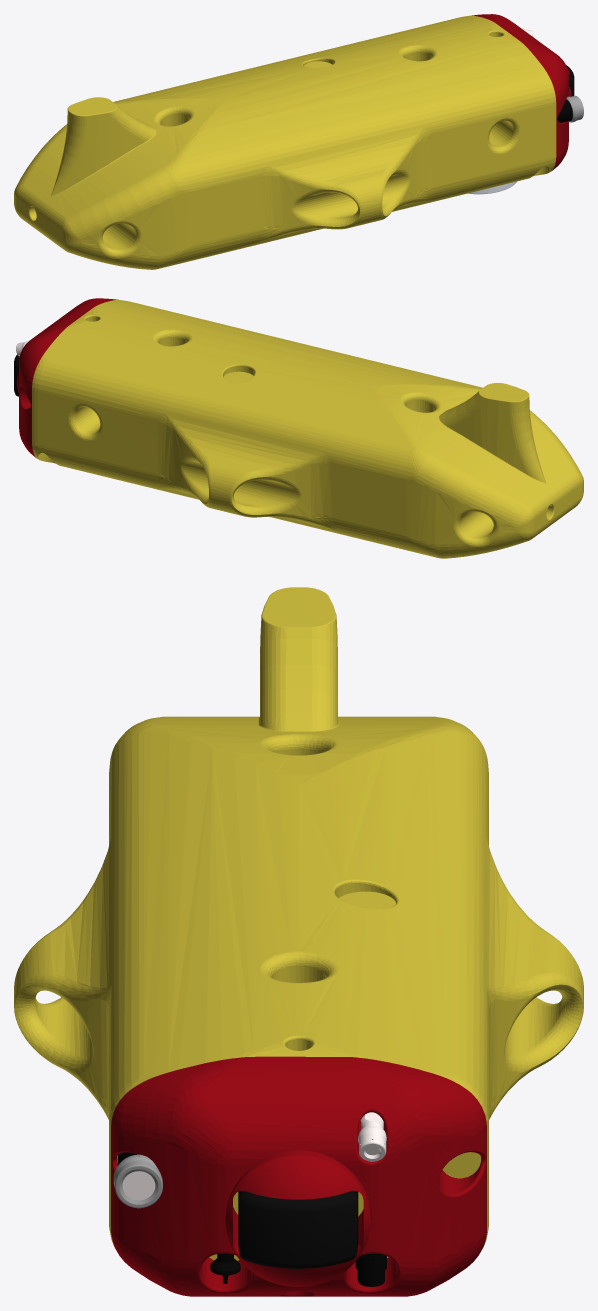
Rendered from FlatFish Mesh.fbx.
3 renders of one model, top to bottom at view 1: azimuth 30°, elevation 25°; view 2: azimuth 150°, elevation 25°; view 3: azimuth 270°, elevation 25°, orthographic. The views are drawn at different scales.
Visible parts, largest first — view 1: External Hull; view 2: External Hull; view 3: External Hull.
Boxes of the visible parts, left/top/right/bottom form: External Hull: left=14, top=14, right=583, bottom=269; External Hull: left=14, top=298, right=583, bottom=558; External Hull: left=14, top=587, right=583, bottom=1296.
Bounding box in the file's own units: 102 × 60.13 × 213.
